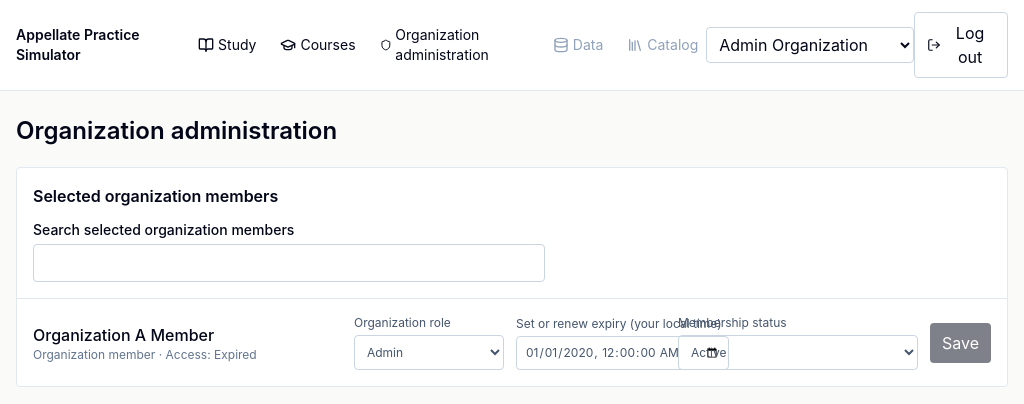
it: organization scoped route access › hides personal owner membership controls and ignores a late response after switching organizations
The image size is (1024, 404).
Expected: the text "Organization A Member" is shown, [33,324,214,344]
Select "Suspended" in the dropdown named "Status for Organization A Member": (798, 352) [678,335,918,370]
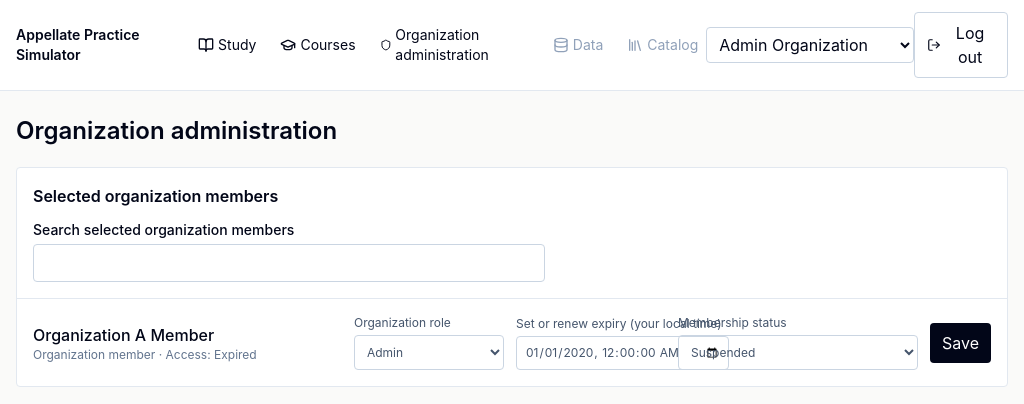
Click the button "Save": (960, 342) [930,322,991,362]
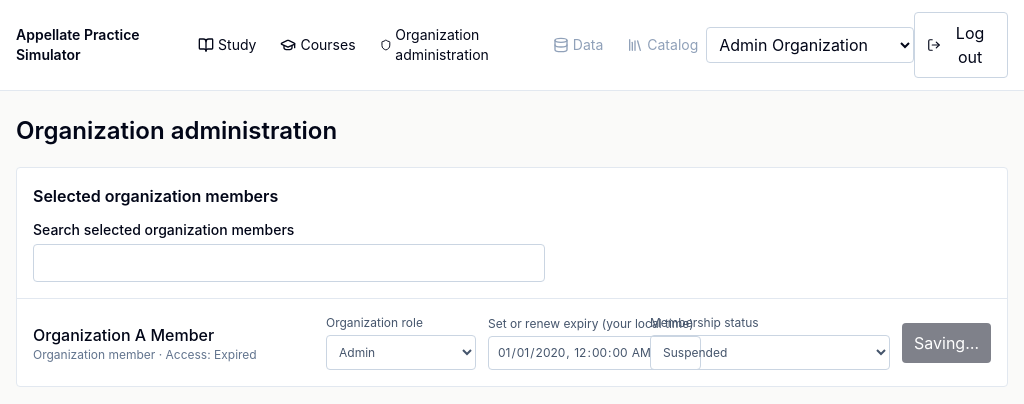
Result: the button "Saving…" is shown at [902,322,991,362]
Select "Personal workspace" in the dropdown named "Organization": (810, 45) [706,27,914,63]
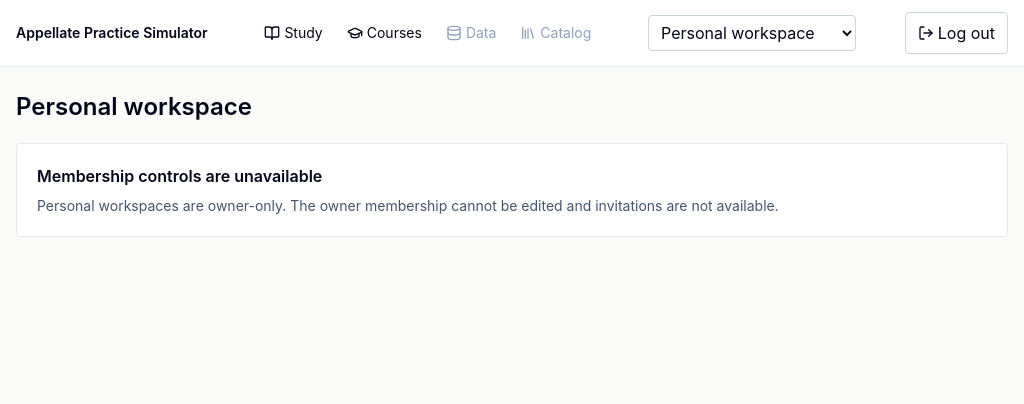
Expected: the button "Save" is not shown
Result: the heading "Membership controls are unavailable" is shown at [37,166,322,186]
Result: the text "owner-only" is shown at [37,197,779,214]
